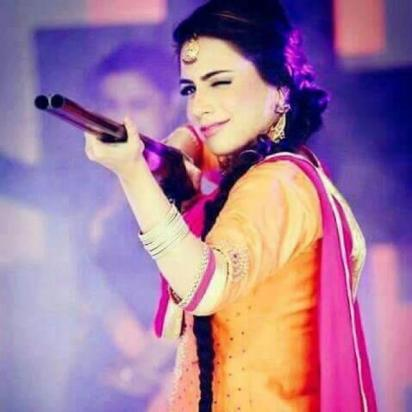Gun: (31, 89, 206, 208)
